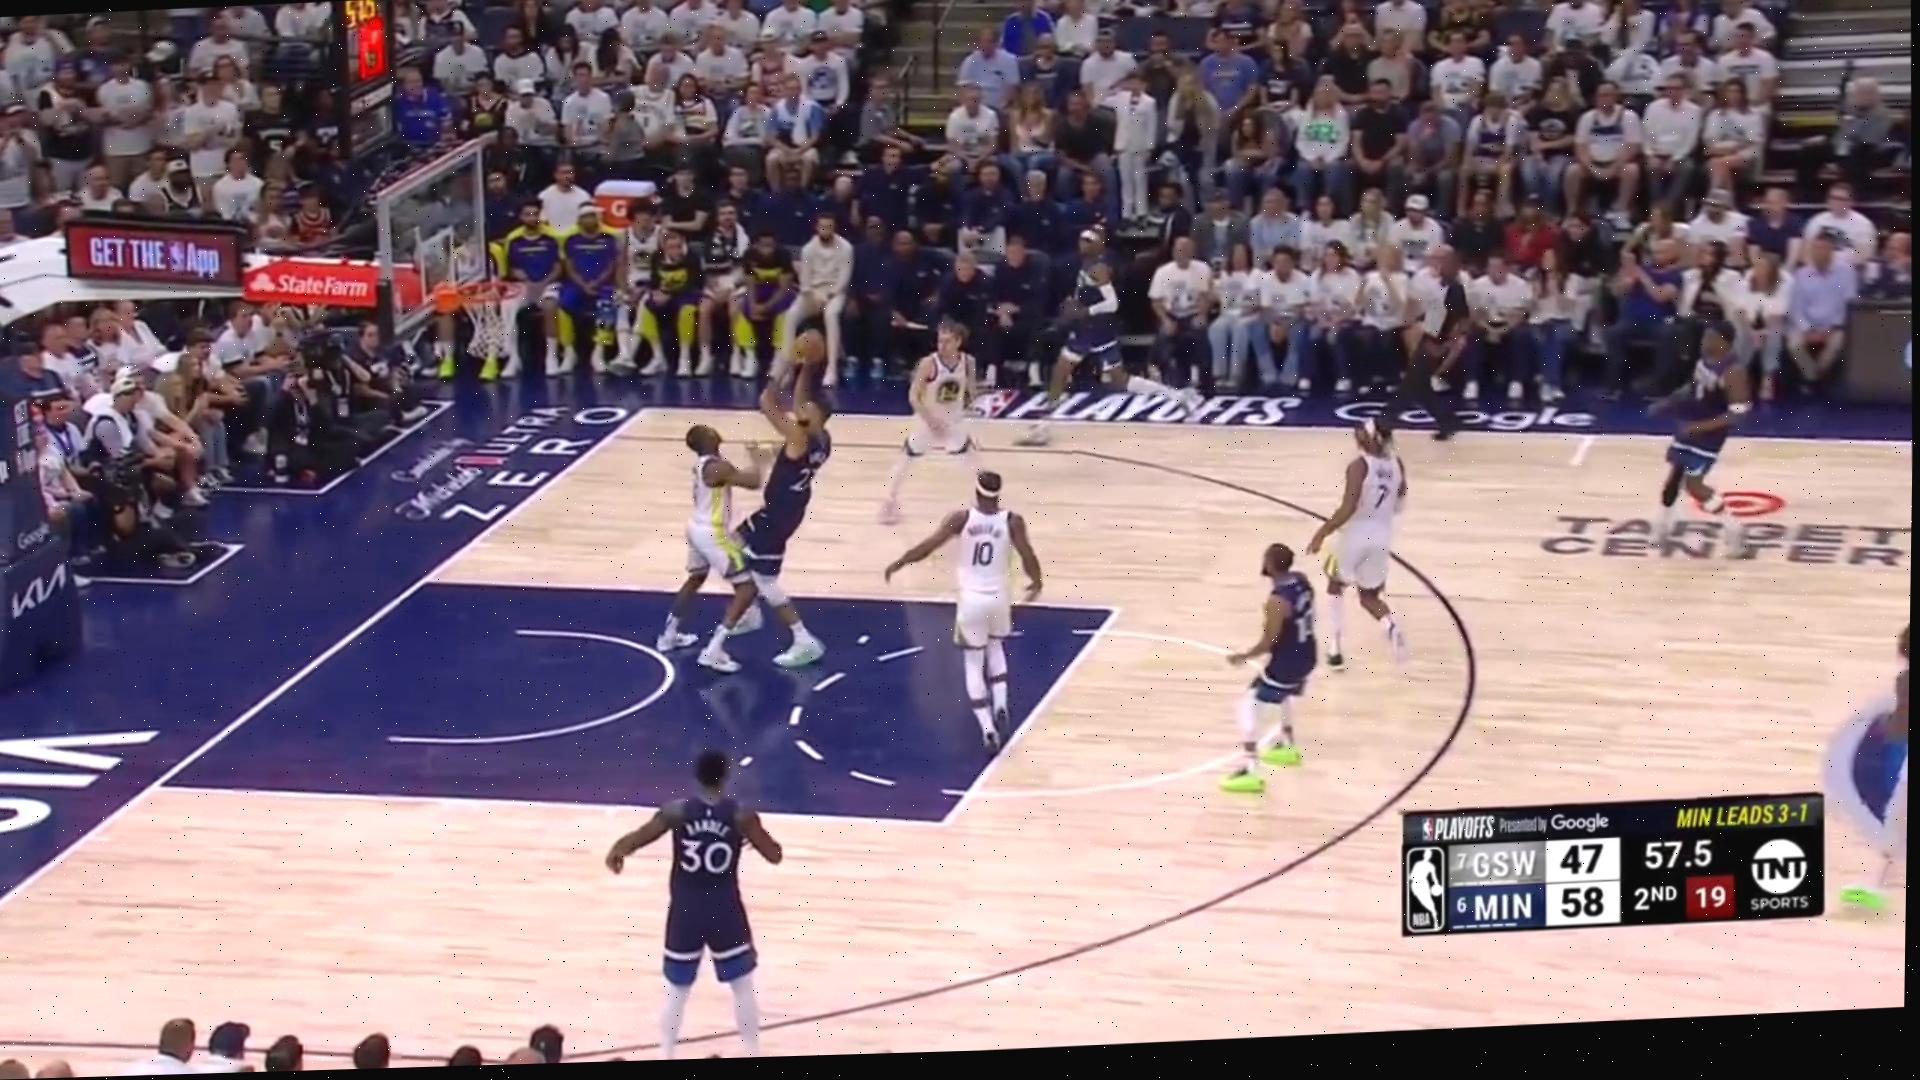foul: (654, 372, 855, 676)
